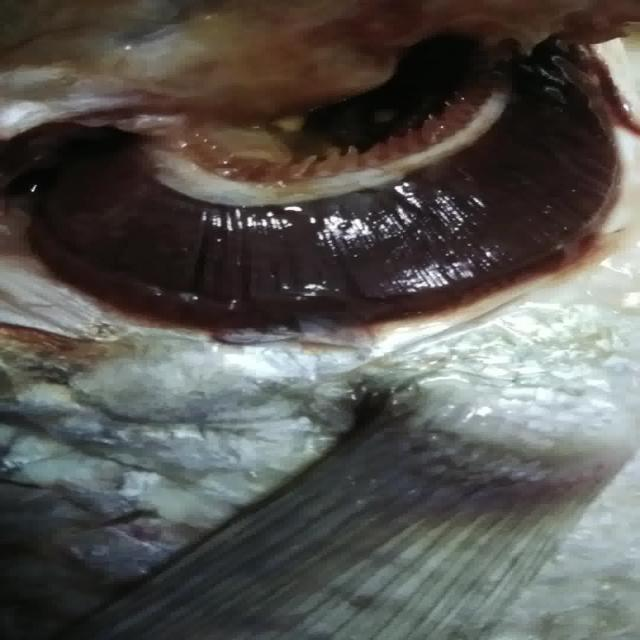Non-Fresh: (36, 19, 624, 355)
